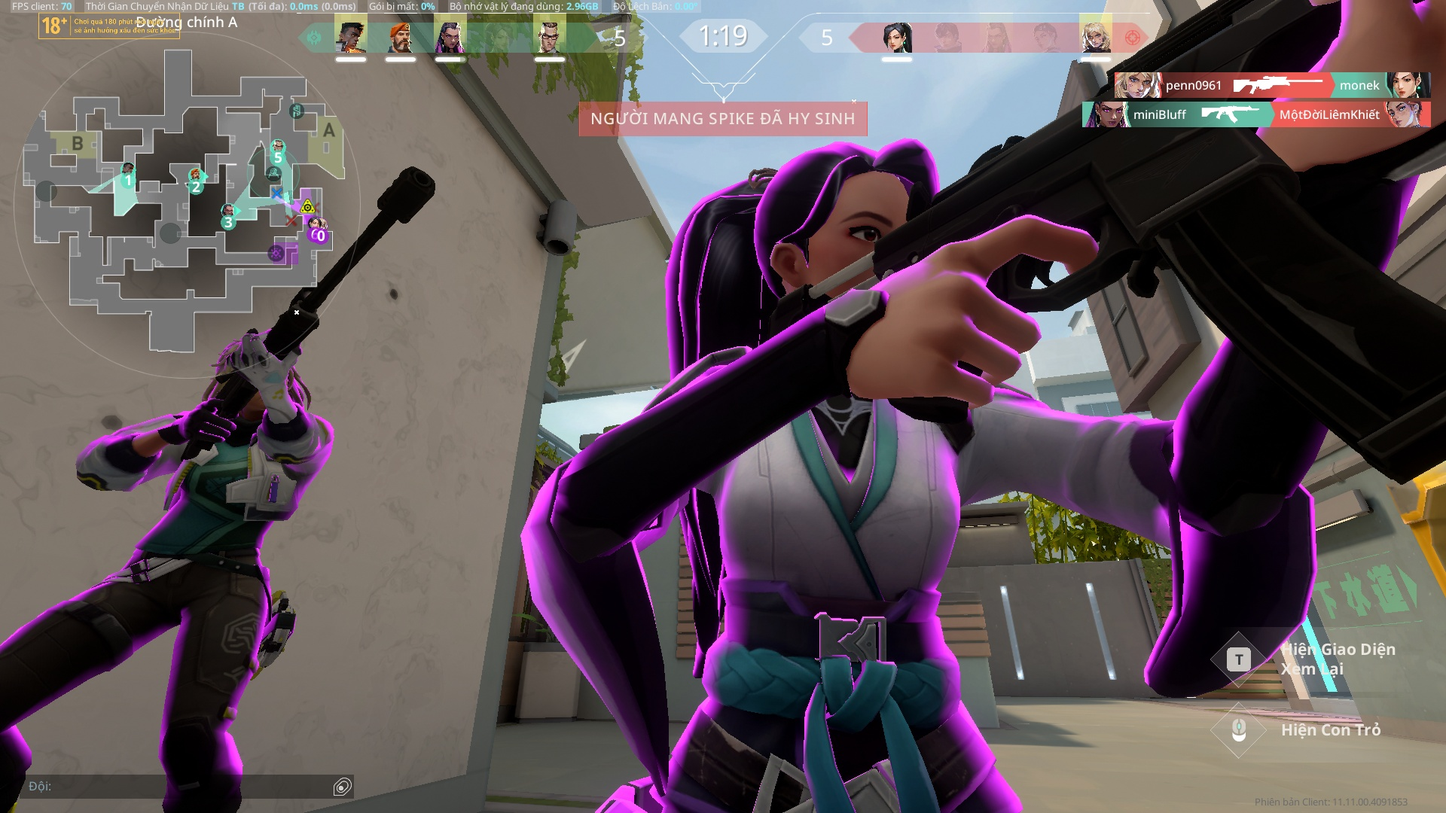body: (667, 348, 1008, 664), (179, 399, 317, 553)
head: (723, 160, 936, 334), (218, 338, 290, 412)
